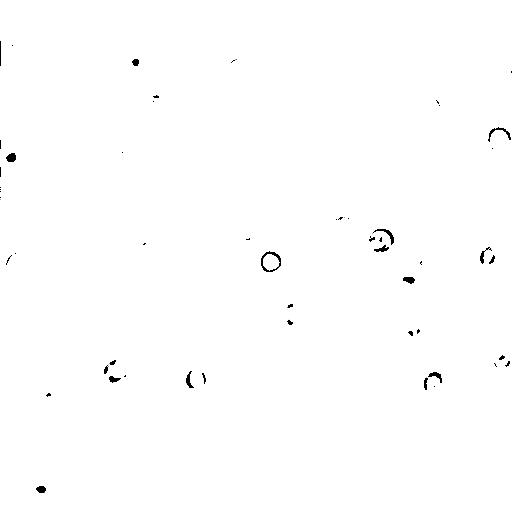micro-algae: (88, 1, 196, 76), (343, 243, 421, 314), (0, 375, 62, 444), (101, 364, 149, 411), (200, 0, 277, 29), (452, 193, 503, 234), (20, 473, 60, 506), (389, 263, 427, 294), (232, 226, 265, 259), (276, 300, 308, 333), (2, 139, 32, 172), (31, 363, 59, 396), (327, 213, 360, 241), (416, 239, 442, 274), (102, 355, 132, 385), (350, 50, 379, 81), (486, 124, 512, 157), (377, 7, 404, 38), (224, 56, 252, 83), (122, 49, 150, 75), (366, 229, 396, 253), (4, 250, 29, 278), (419, 96, 445, 121), (117, 130, 139, 159), (259, 250, 284, 275), (422, 370, 445, 397), (184, 368, 208, 392), (404, 314, 423, 338), (479, 245, 498, 267), (128, 230, 151, 248), (492, 353, 512, 372), (2, 42, 18, 65), (311, 267, 329, 283), (145, 0, 171, 10), (506, 63, 512, 76)
